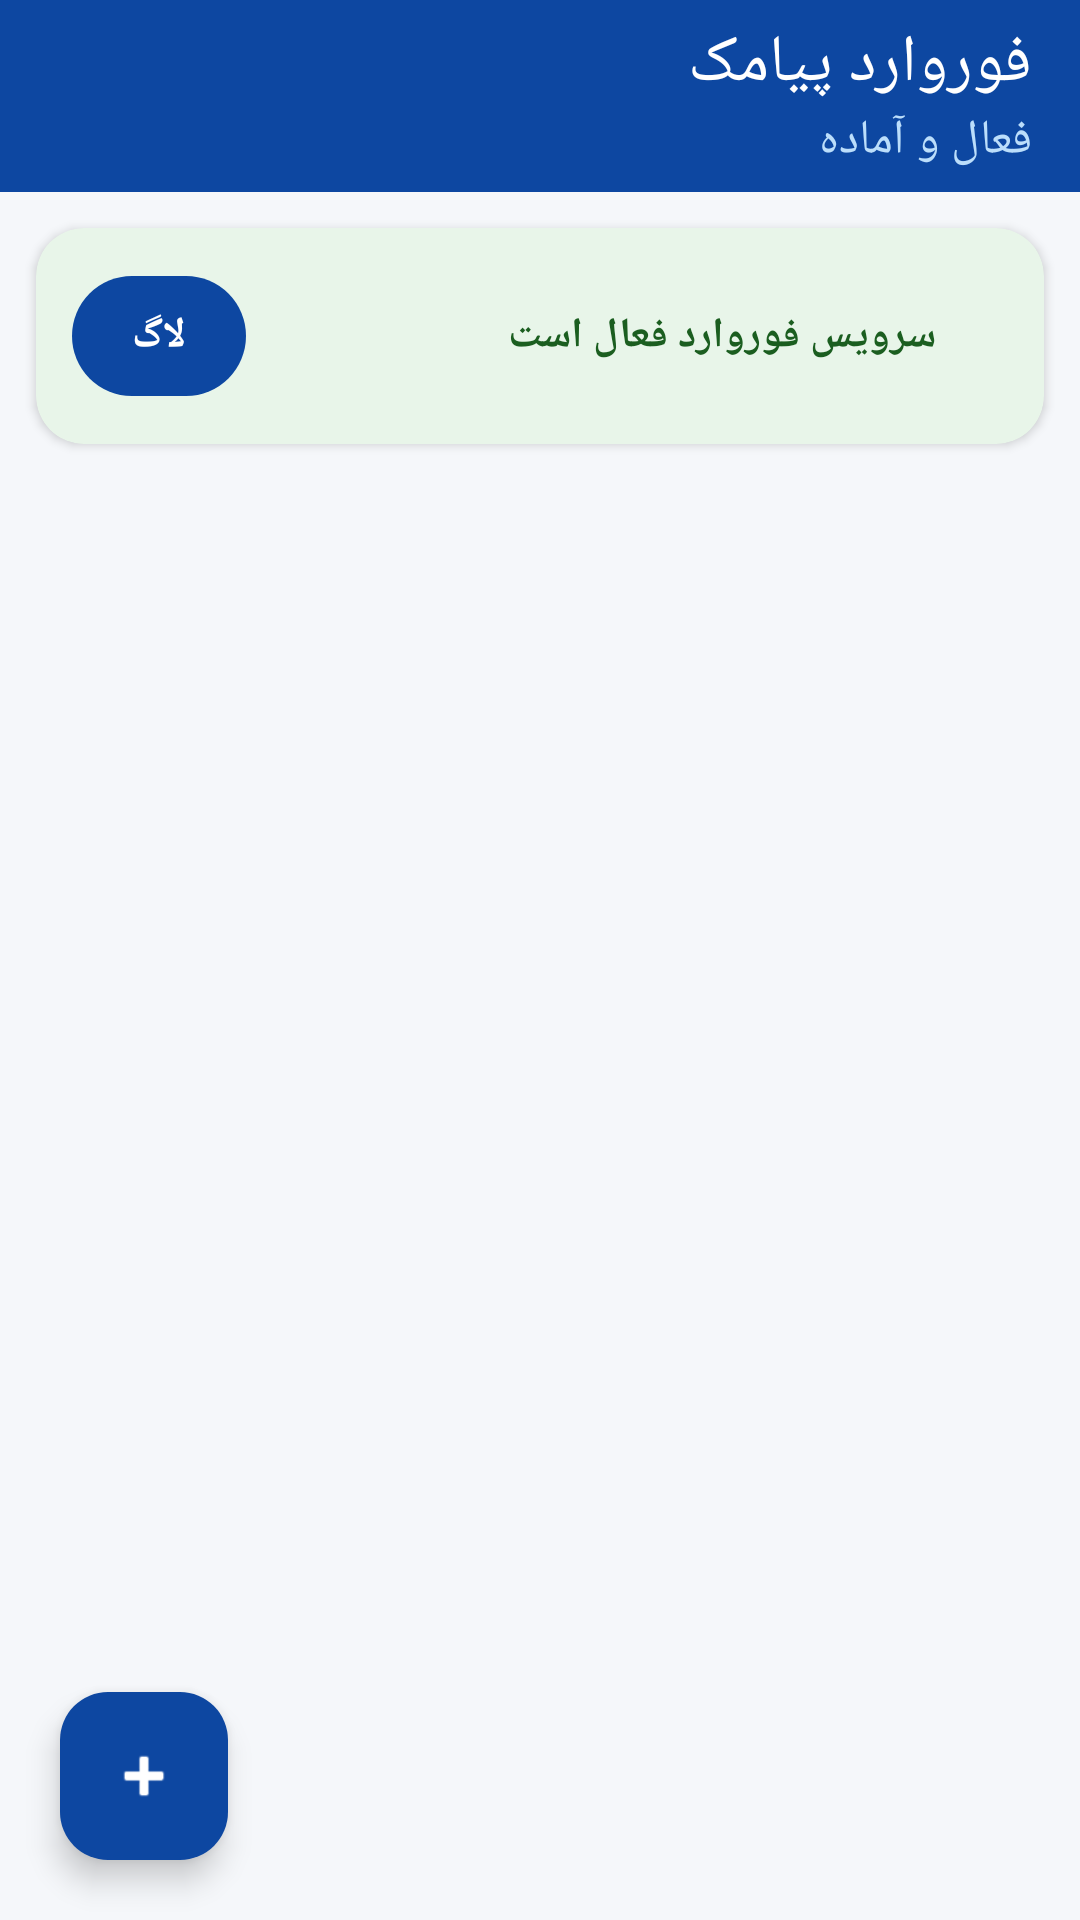

Where icons sit on this 1080px×1920px app screen, as (x1, y1, x2, y2):
افزودن قانون: (60, 1692, 228, 1860)
